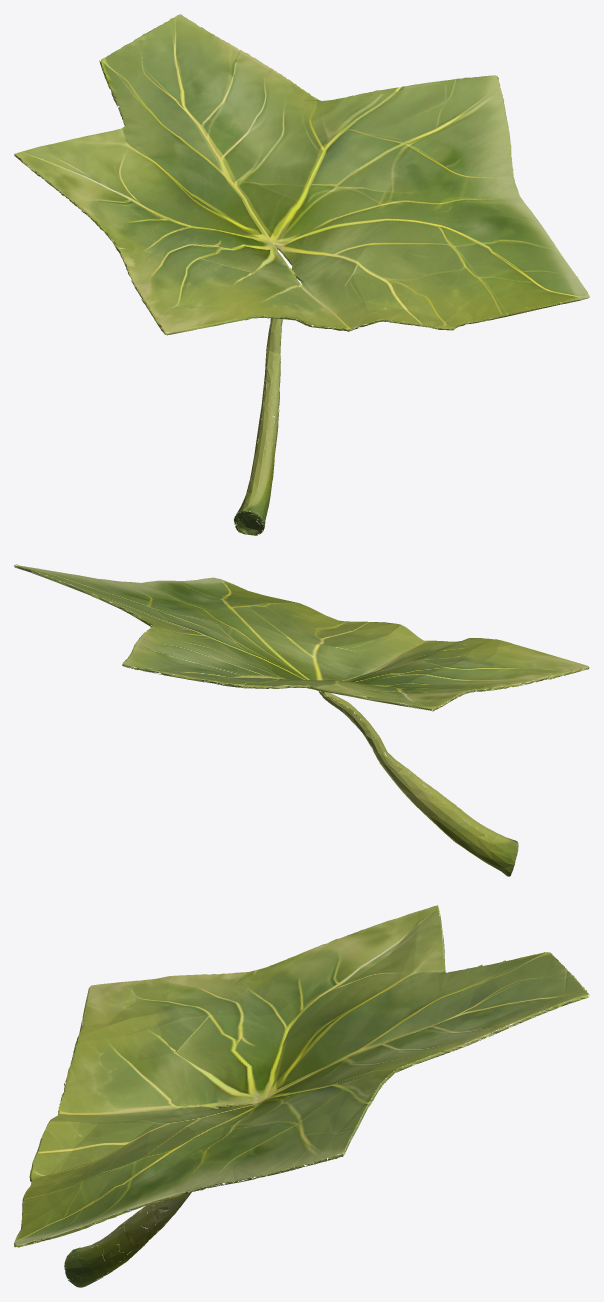
Rendered from ivy_leaf.glb.
3 renders of one model, top to bottom at view 1: azimuth 30°, elevation 25°; view 2: azimuth 150°, elevation 25°; view 3: azimuth 270°, elevation 25°, orthographic. The views are drawn at different scales.
Visible parts, largest first — view 1: textured.obj; view 2: textured.obj; view 3: textured.obj.
Part boxes in pixels (left/top/right/bottom): textured.obj: left=14, top=14, right=589, bottom=535; textured.obj: left=14, top=564, right=589, bottom=876; textured.obj: left=14, top=905, right=589, bottom=1287.
Size of the model in its own units: 0.09 by 0.0632 by 0.088.
1 material, 1 textured.
